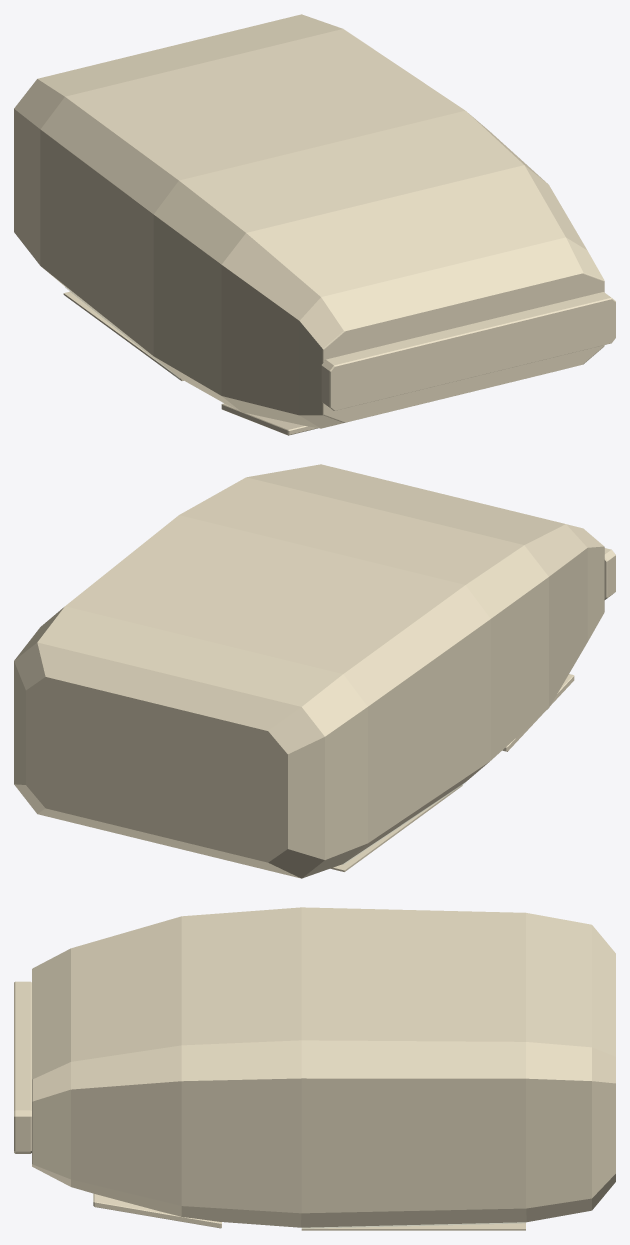
File: chickpeas.glb
3 views of the same model, one above another, from view 1: azimuth 30°, elevation 25°; view 2: azimuth 150°, elevation 25°; view 3: azimuth 270°, elevation 25° (orthographic). The views are drawn at different scales.
Visible parts, largest first — view 1: chickpeas; view 2: chickpeas; view 3: chickpeas.
Part boxes in pixels (bbox=[...]): chickpeas: bbox=[14, 14, 615, 435]; chickpeas: bbox=[14, 464, 615, 878]; chickpeas: bbox=[14, 907, 615, 1230].
Bounding box in the file's own units: 0.1236 × 0.0706 × 0.201.
